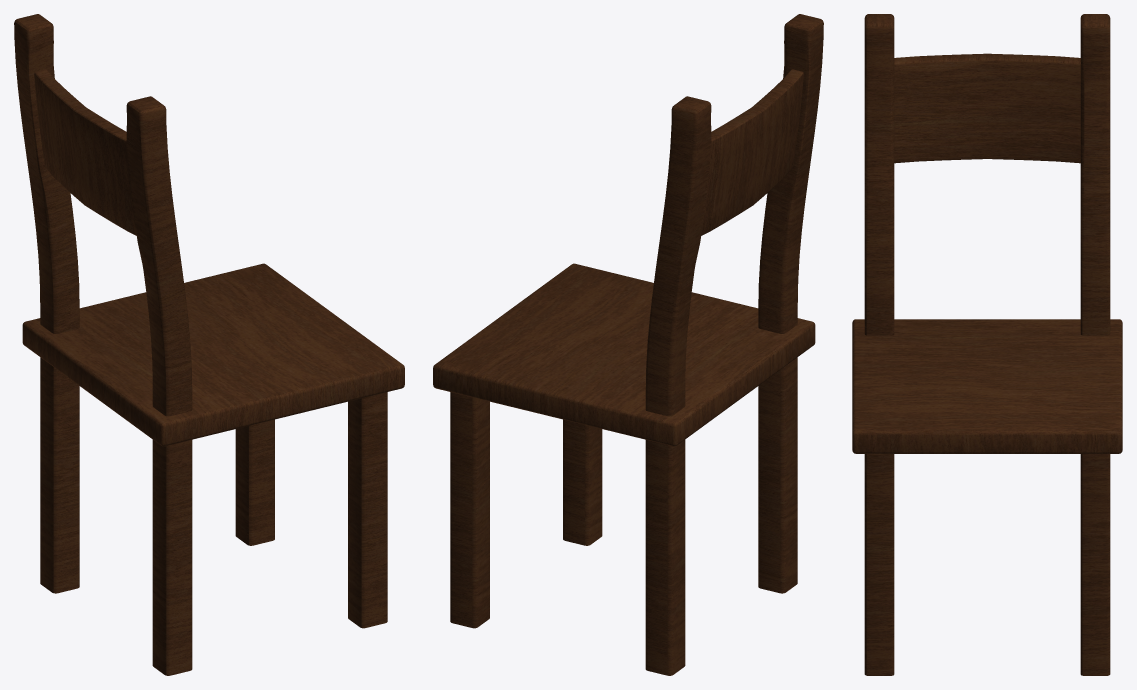
File: Chair.fbx
3 renders of one model, left to right at view 1: azimuth 30°, elevation 25°; view 2: azimuth 150°, elevation 25°; view 3: azimuth 270°, elevation 25°, orthographic. The views are drawn at different scales.
Visible parts, largest first — view 1: Cube.004; view 2: Cube.004; view 3: Cube.004.
Part boxes in pixels (x1,y1,x2,y2): Cube.004: (14,14,404,675); Cube.004: (433,14,823,675); Cube.004: (852,14,1122,675).
Bounding box in the file's own units: 57.58 × 120 × 53.61.
1 material, 1 textured.
